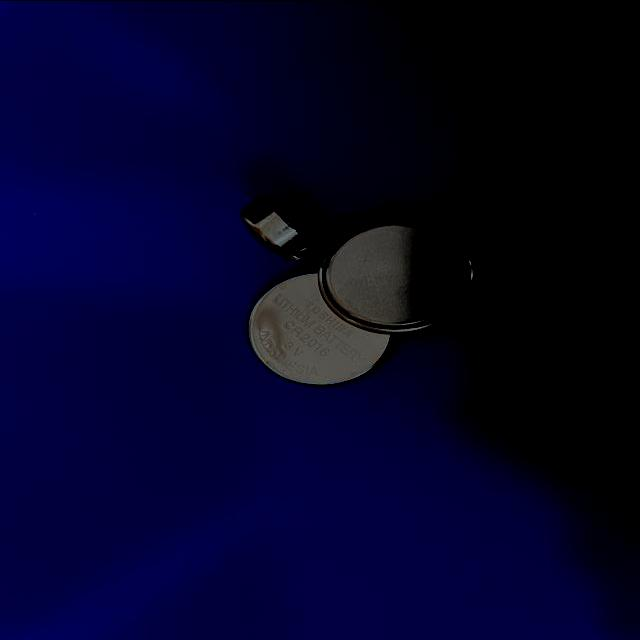COIN: (316, 214, 483, 336), (246, 270, 394, 388), (238, 192, 324, 260)
